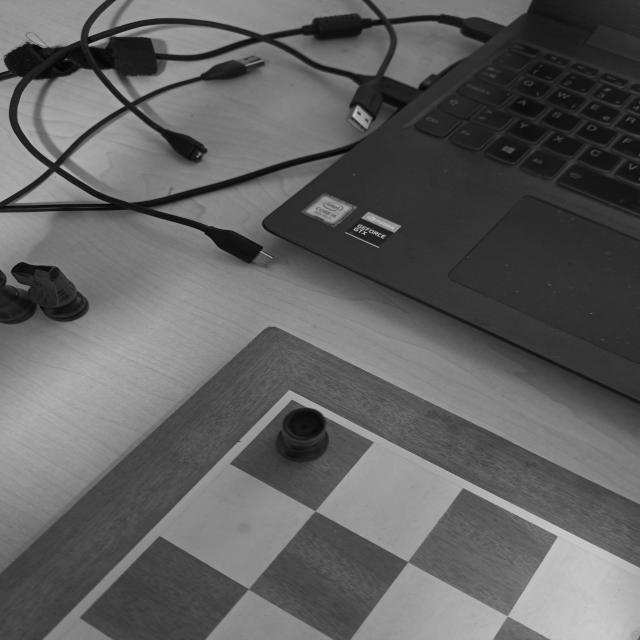chess-table-corners: (260, 379, 324, 421)
